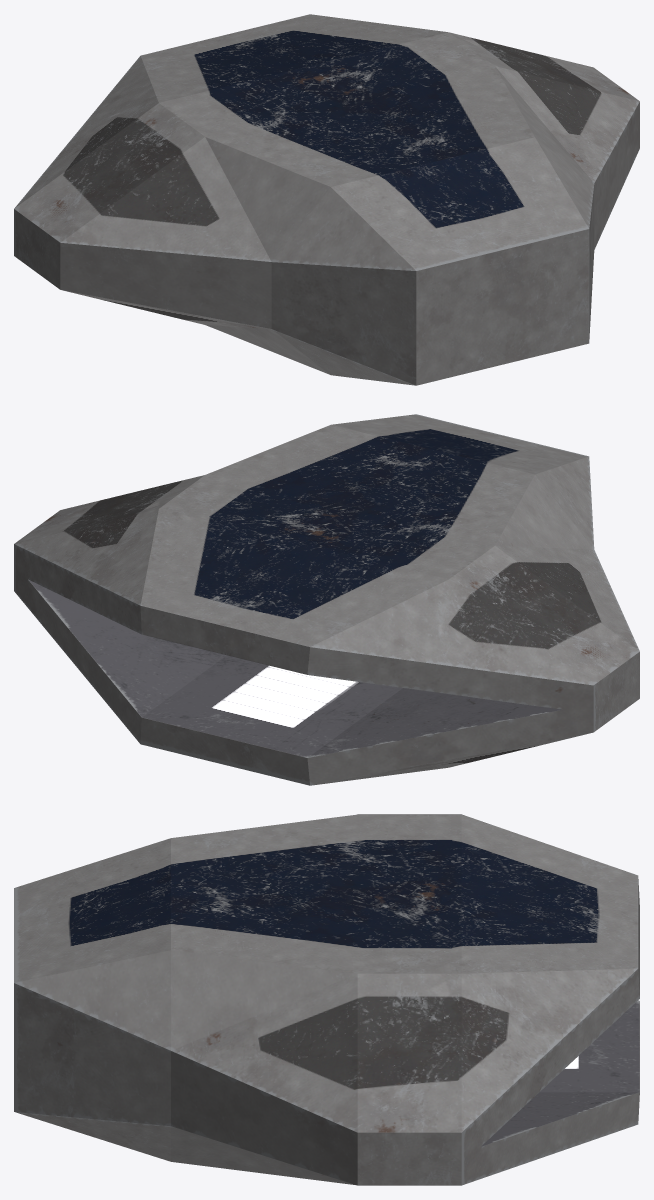
The model's file is stern_m_3.fbx.
3 views of the same model, one above another, from view 1: azimuth 30°, elevation 25°; view 2: azimuth 150°, elevation 25°; view 3: azimuth 270°, elevation 25° (orthographic). The views are drawn at different scales.
Visible parts, largest first — view 1: stern_m_3; view 2: stern_m_3; view 3: stern_m_3.
Part boxes in pixels (box(x1,y1,x2,y2)): stern_m_3: box(14, 14, 639, 385); stern_m_3: box(14, 414, 639, 785); stern_m_3: box(14, 814, 639, 1185).
Size of the model in its own units: 40.59 by 12.59 by 33.75.
